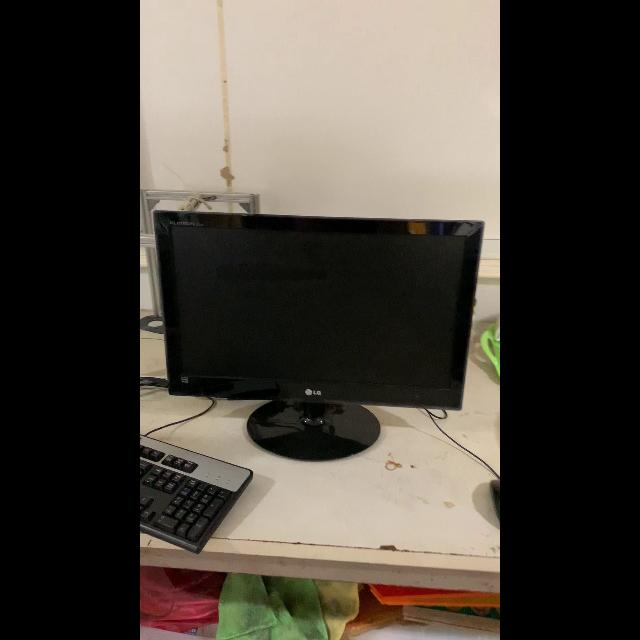Flat-Panel-Monitor: (152, 208, 488, 462)
